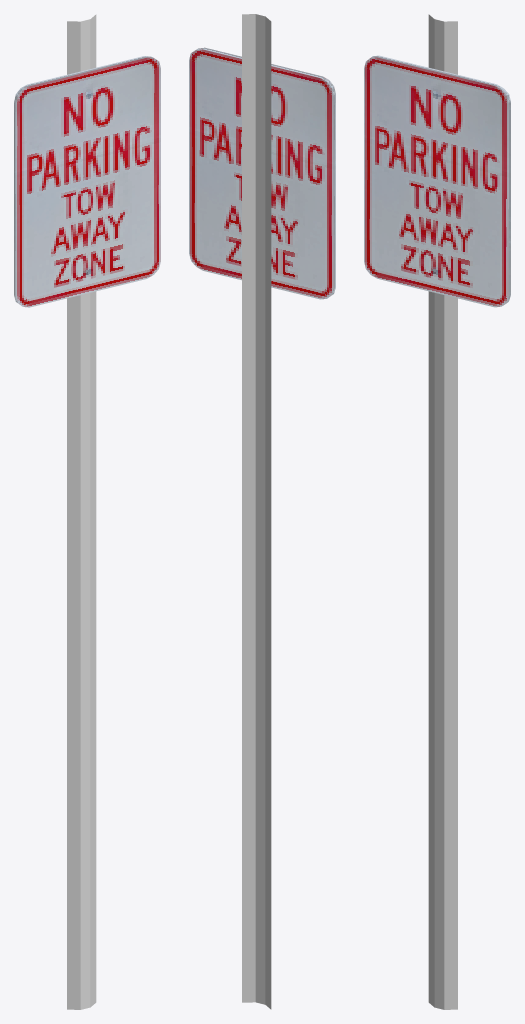
Rendered from sign_no_parking.glb.
3 renders of one model, left to right at view 1: azimuth 30°, elevation 25°; view 2: azimuth 150°, elevation 25°; view 3: azimuth 330°, elevation 25°, orthographic.
Parts seen in each view (by area): view 1: sign_no_parking, signpost_silver; view 2: signpost_silver, sign_no_parking; view 3: sign_no_parking, signpost_silver.
Boxes of the visible parts, box(x1,y1,x2,y2) form: sign_no_parking: box(14, 56, 160, 307); signpost_silver: box(67, 14, 96, 1009); signpost_silver: box(242, 14, 271, 1009); sign_no_parking: box(189, 47, 335, 299); sign_no_parking: box(364, 55, 510, 307); signpost_silver: box(428, 14, 457, 1009).
Size of the model in its own units: 0.2799 by 1.83 by 0.0233.
Materials: 2 (1 with a texture image).
